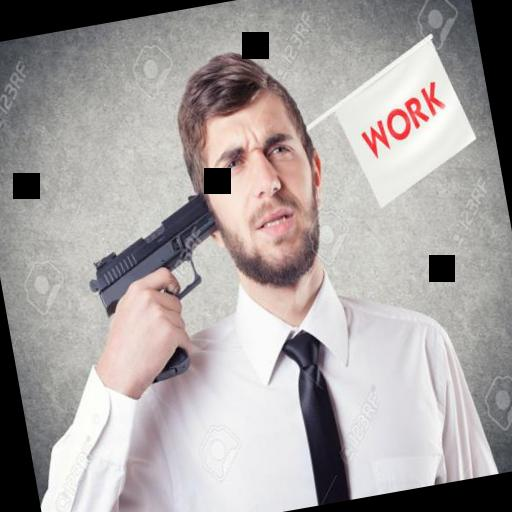Handgun: (74, 187, 239, 395)
